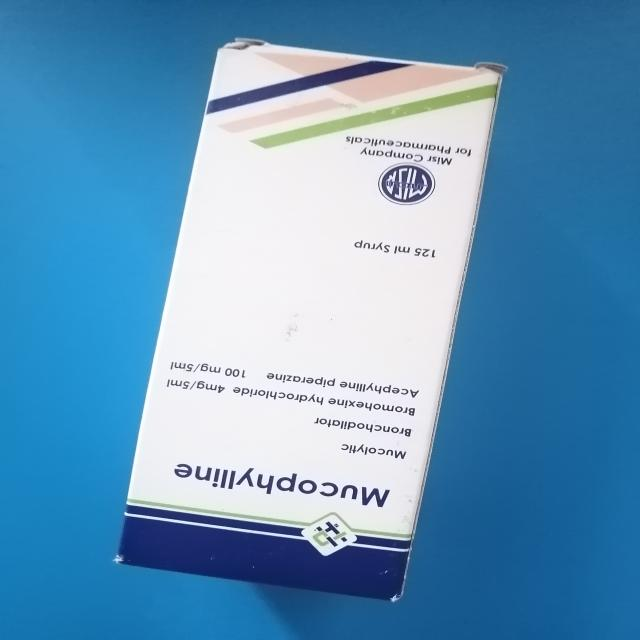Medicine: (106, 33, 513, 606)
